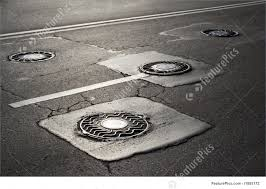Manhole-Closed: (48, 97, 191, 155), (137, 49, 200, 87), (205, 22, 246, 41), (11, 47, 56, 62)
